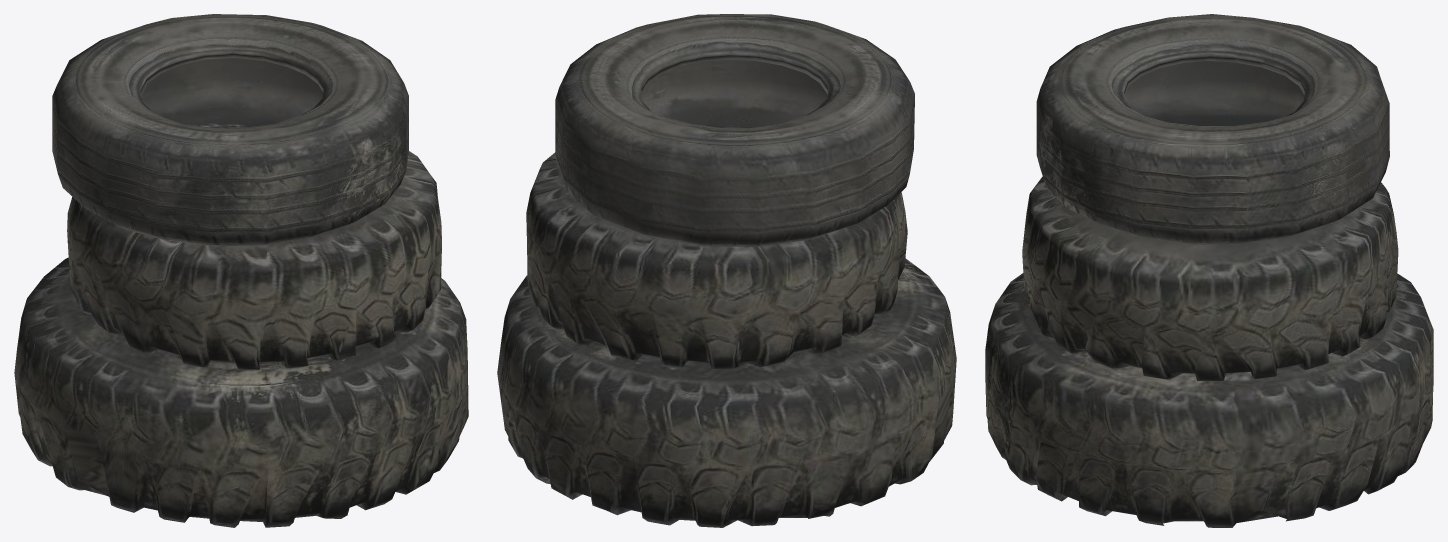
File: tires.glb
3 renders of one model, left to right at view 1: azimuth 30°, elevation 25°; view 2: azimuth 150°, elevation 25°; view 3: azimuth 270°, elevation 25°, orthographic.
Visible parts, largest first — view 1: tires; view 2: tires; view 3: tires.
Boxes of the visible parts, x1,y1,x2,y2 form: tires: (14,14,468,527); tires: (497,14,956,527); tires: (985,14,1433,527).
Bounding box in the file's own units: 0.64 × 0.5702 × 0.64.
1 material, 1 textured.
